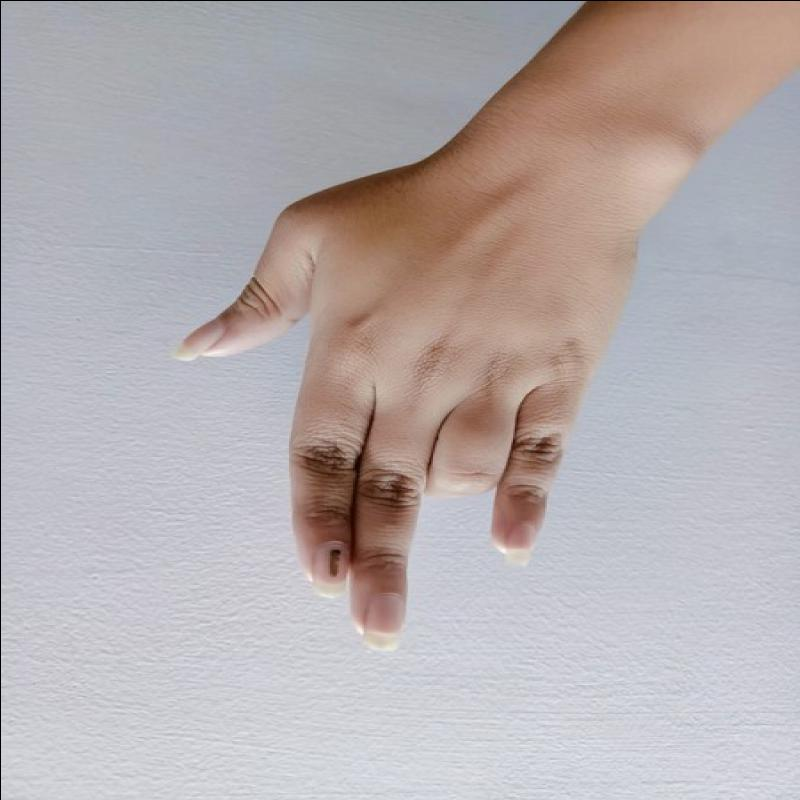Pathaaka: (164, 161, 669, 665)
